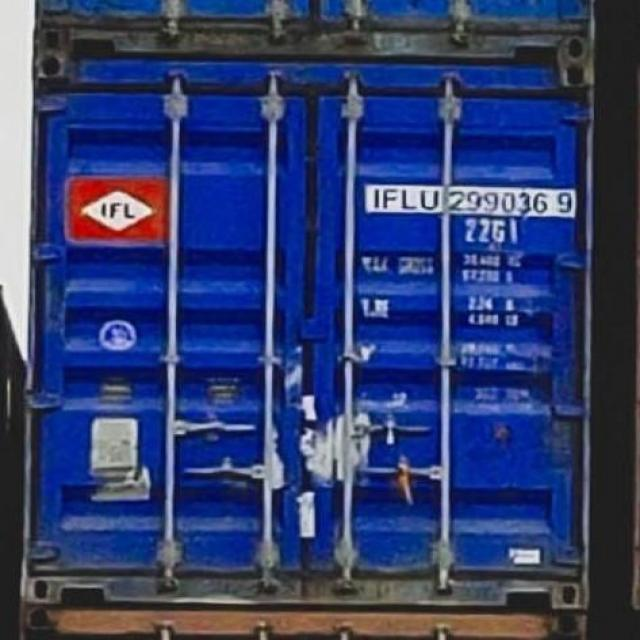ISO: (464, 220, 522, 248)
container_number: (372, 188, 572, 217)
